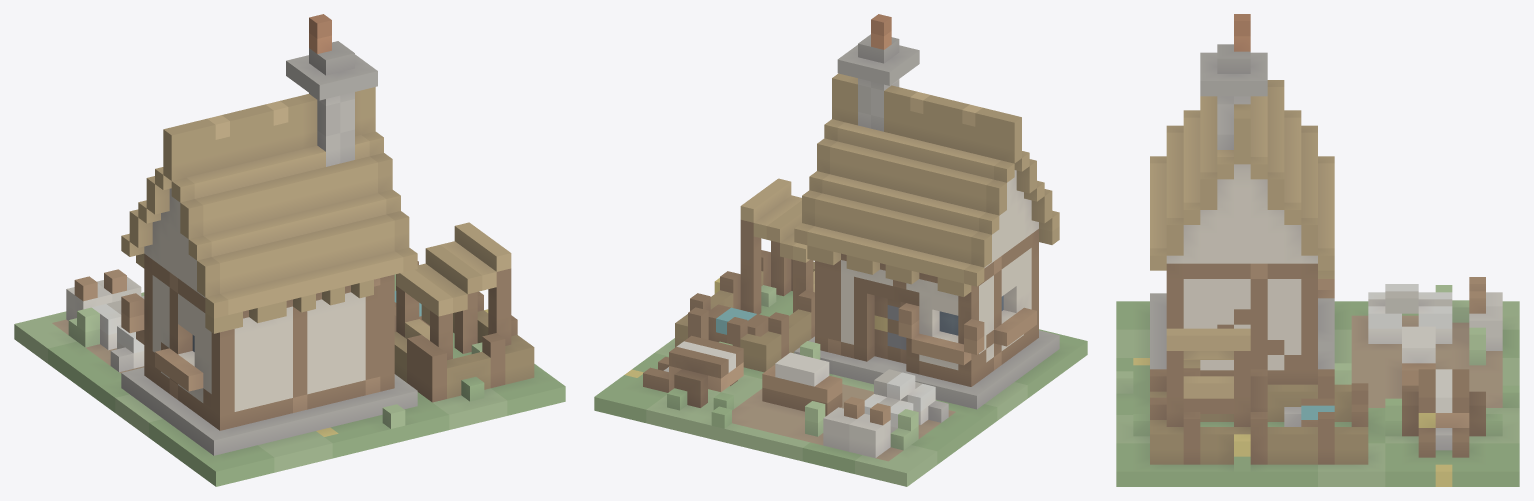
Rendered from sheep_farm.glb.
The picture shows the model from 3 angles, left to right: view 1: azimuth 30°, elevation 25°; view 2: azimuth 150°, elevation 25°; view 3: azimuth 270°, elevation 25°; orthographic projection. The views are drawn at different scales.
Visible parts, largest first — view 1: sheep_farm; view 2: sheep_farm; view 3: sheep_farm.
Boxes of the visible parts, x1,y1,x2,y2 form: sheep_farm: (14, 14, 565, 486); sheep_farm: (594, 14, 1087, 486); sheep_farm: (1116, 14, 1519, 486).
Bounding box in the file's own units: 3 × 3.12 × 3.
